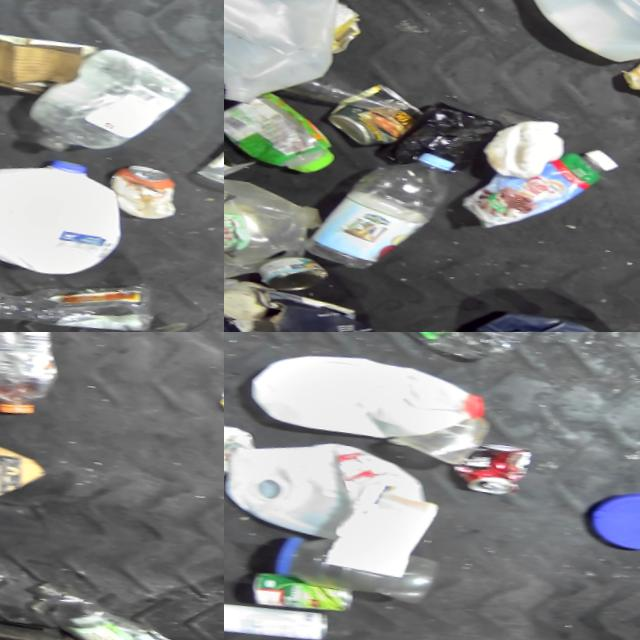can: (324, 73, 432, 158), (101, 162, 180, 230), (459, 440, 540, 501), (244, 248, 333, 298)
milk_jug: (241, 345, 483, 454), (224, 431, 430, 551), (0, 143, 124, 285), (224, 0, 349, 113), (507, 0, 640, 78)
non_white_jug: (435, 296, 640, 332)
plastic_bottle: (302, 135, 457, 281), (0, 263, 157, 332), (25, 583, 171, 640), (351, 332, 535, 369), (0, 332, 58, 423)
